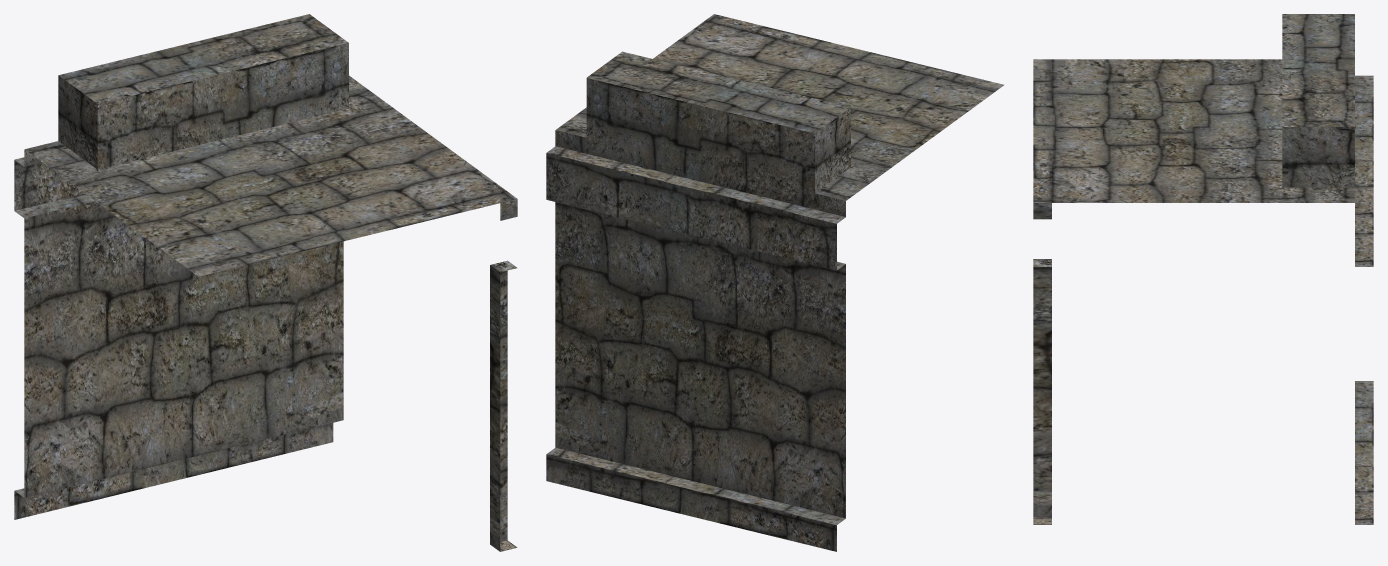
The model's file is Fort_11101000.gltf.
The picture shows the model from 3 angles, left to right: view 1: azimuth 30°, elevation 25°; view 2: azimuth 150°, elevation 25°; view 3: azimuth 270°, elevation 25°; orthographic projection. The views are drawn at different scales.
Parts seen in each view (by area): view 1: Claimed_11101000; view 2: Claimed_11101000; view 3: Claimed_11101000.
Part boxes in pixels (<box>): Claimed_11101000: <box>14,14,517,551</box>; Claimed_11101000: <box>546,14,1003,551</box>; Claimed_11101000: <box>1033,14,1373,524</box>.
Bounding box in the file's own units: 2.5 × 3.32 × 2.5.
Materials: 1 (1 with a texture image).
